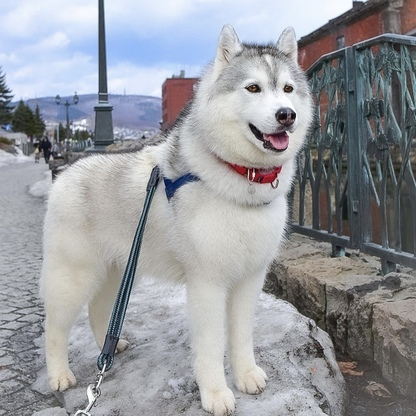husky: (35, 20, 321, 416)
